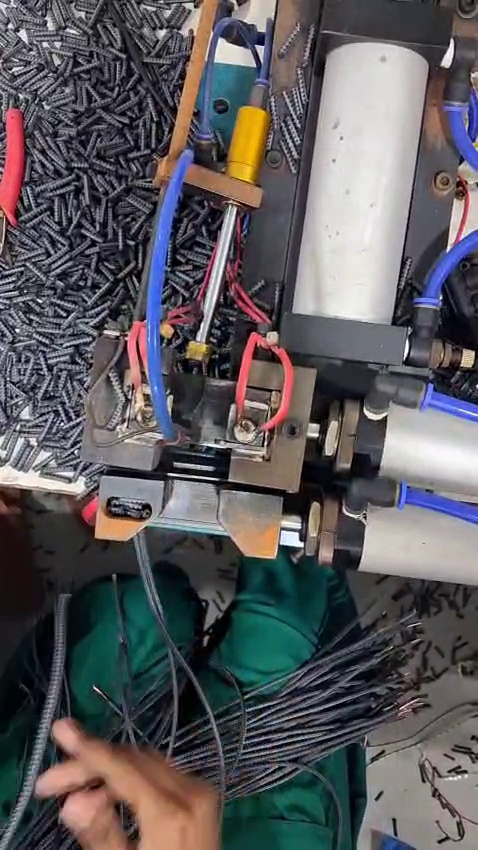intact_wire: (38, 581, 83, 672)
machine: (82, 317, 330, 503)
